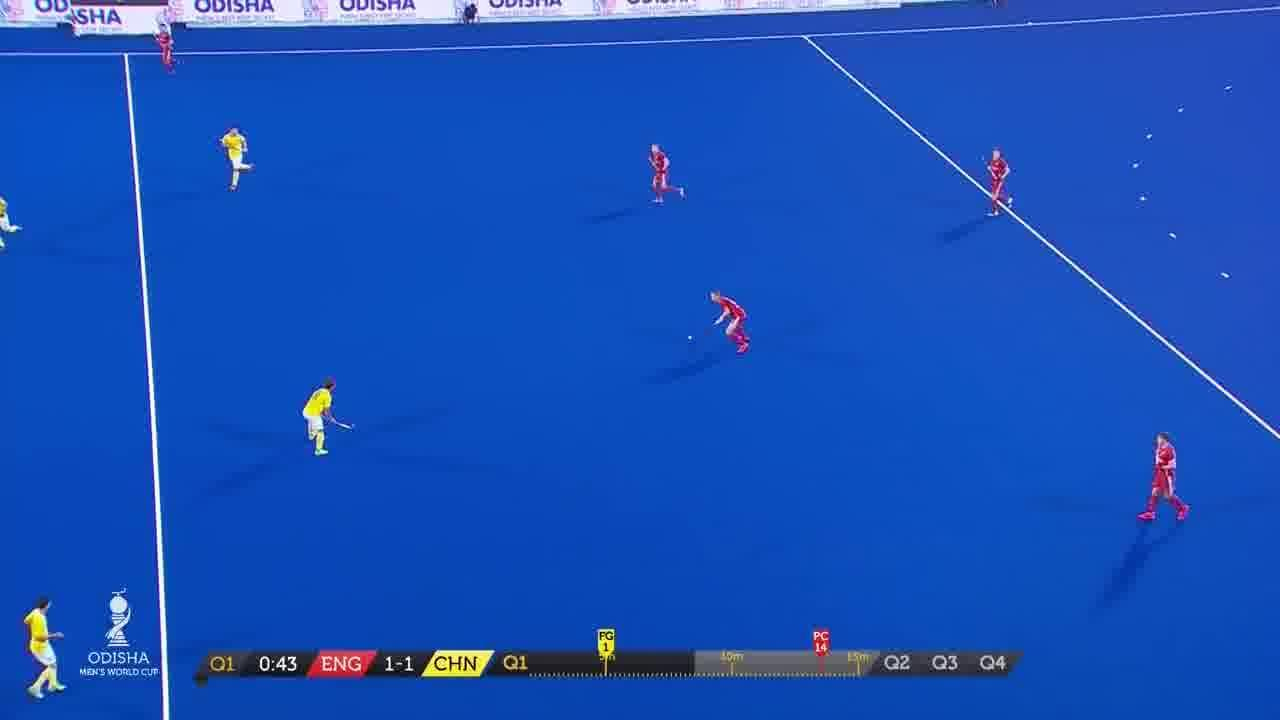ball: (688, 332, 694, 342)
